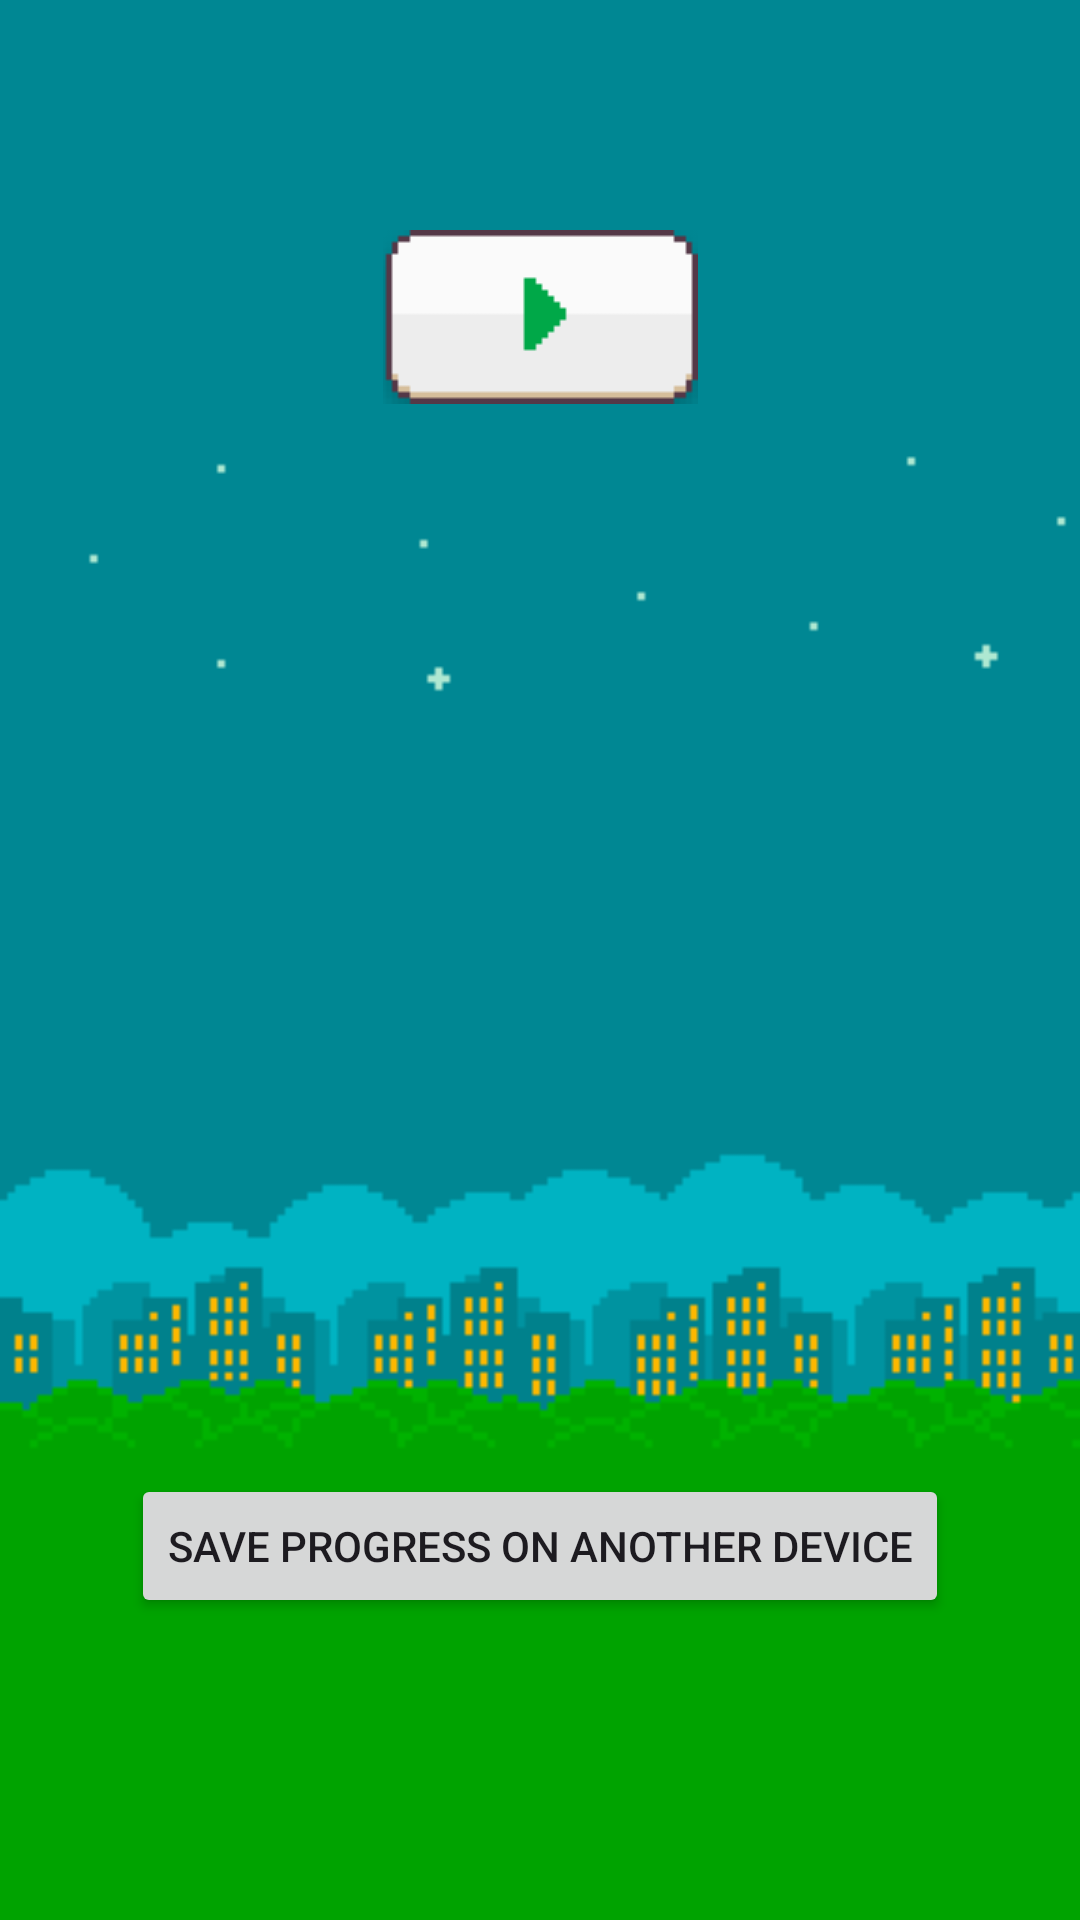

Where icons sit on this 1080w x 1920h app screen, as (x1, y1, x2, y2):
play: (385, 230, 698, 404)
